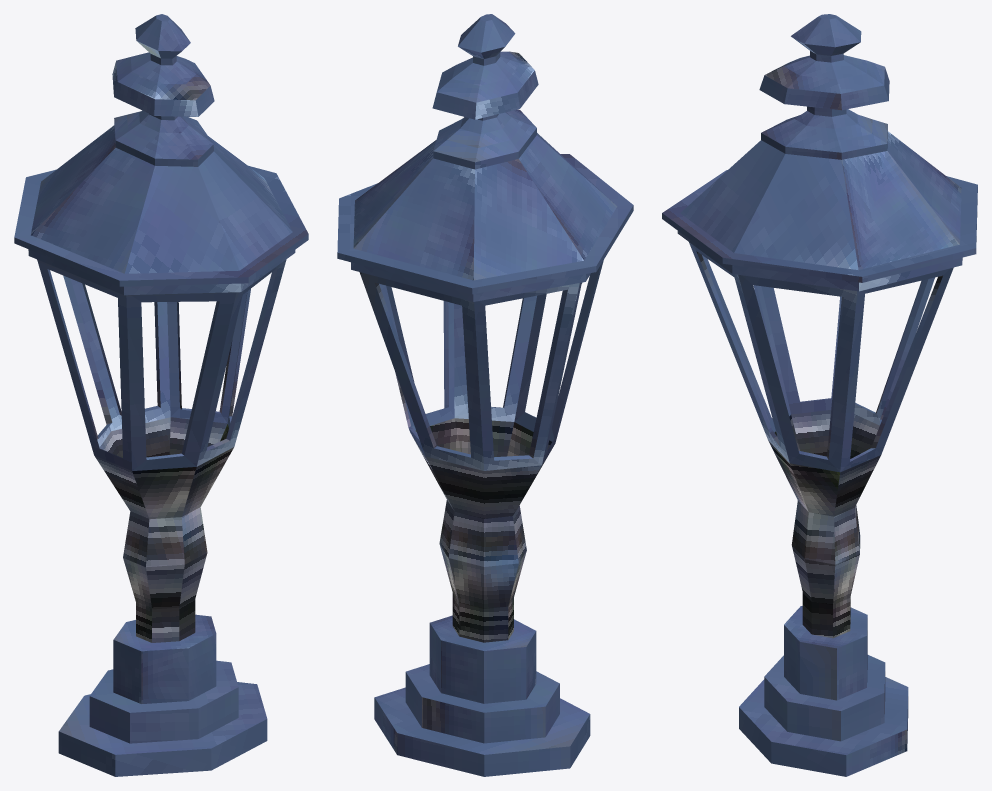
The model's file is lampaleshinar.glb.
3 renders of one model, left to right at view 1: azimuth 30°, elevation 25°; view 2: azimuth 150°, elevation 25°; view 3: azimuth 270°, elevation 25°, orthographic.
Parts seen in each view (by area): view 1: Cylinder; view 2: Cylinder; view 3: Cylinder.
Boxes of the visible parts, left/top/right/bottom form: Cylinder: left=14, top=14, right=308, bottom=776; Cylinder: left=337, top=14, right=633, bottom=776; Cylinder: left=662, top=14, right=977, bottom=776.
Size of the model in its own units: 1.6 by 4.25 by 1.71.
Materials: 2 (1 with a texture image).
